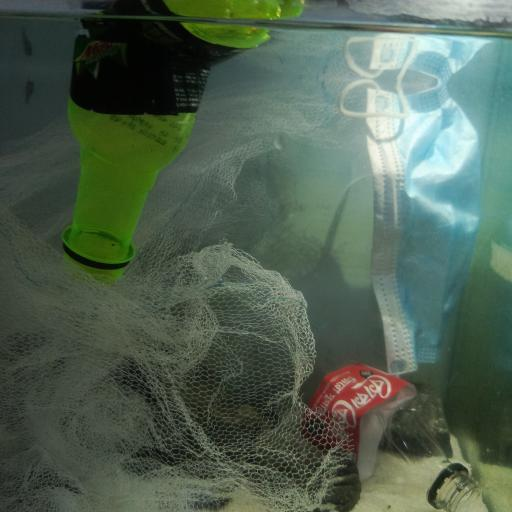mask: (344, 62, 488, 376)
net: (1, 105, 354, 511)
plastic_bottle: (65, 33, 222, 279), (277, 353, 482, 512)
